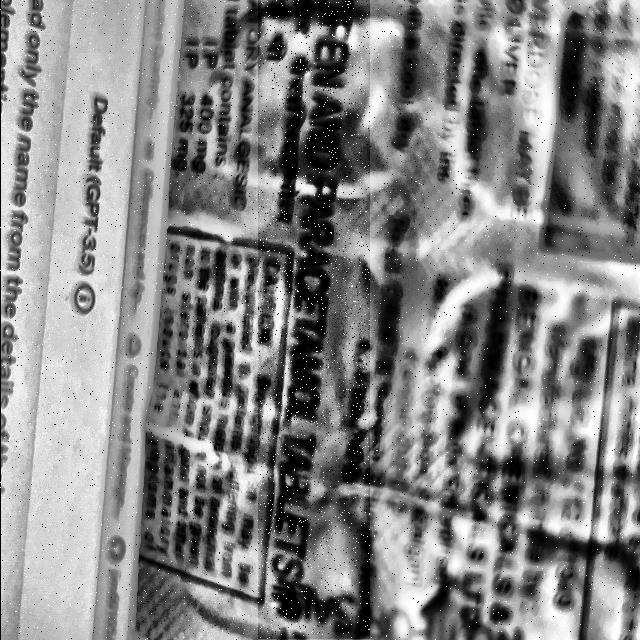IBUPROFEN AND PARACETAMOL TABLETS: (257, 0, 369, 638)
